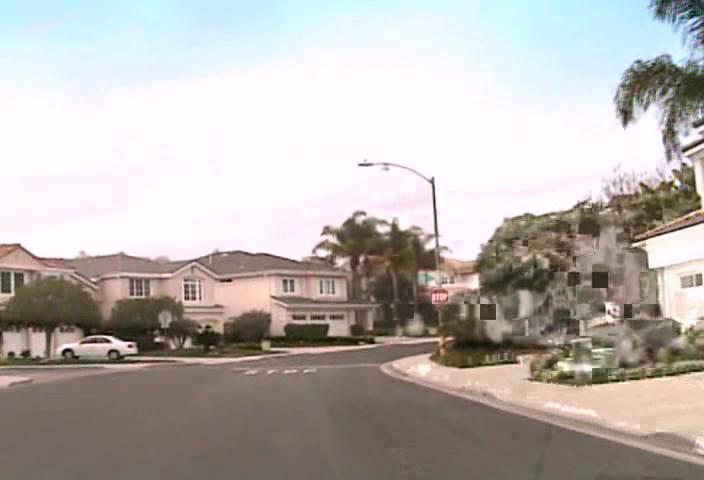stop: (430, 287, 449, 306)
